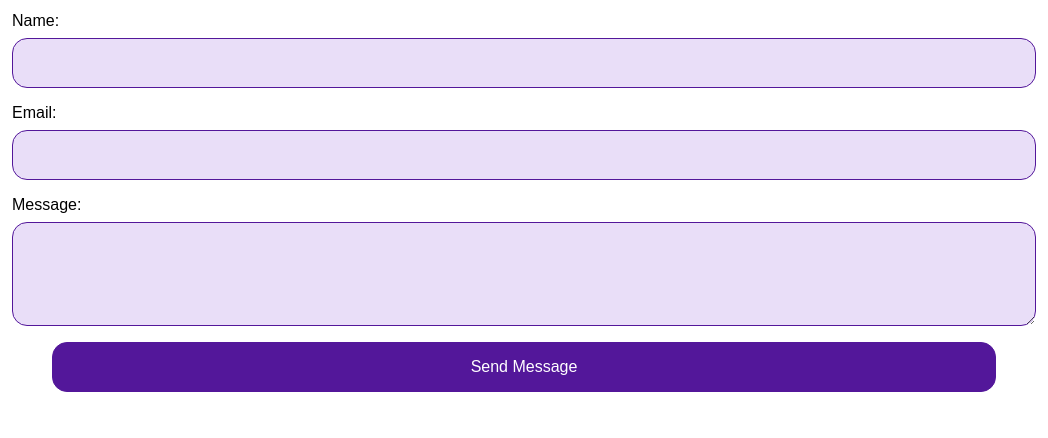
it: ContactForm › shows the server's confirmation on success
In the field labelled "Name:": (524, 63) [12, 38, 1036, 88], type "Ada"
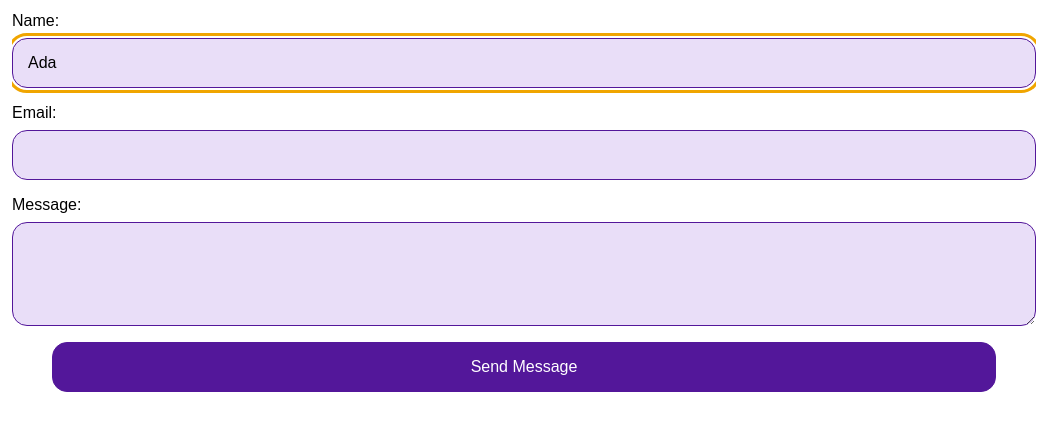
In the field labelled "Email:": (524, 155) [12, 130, 1036, 180], type "ada@example"
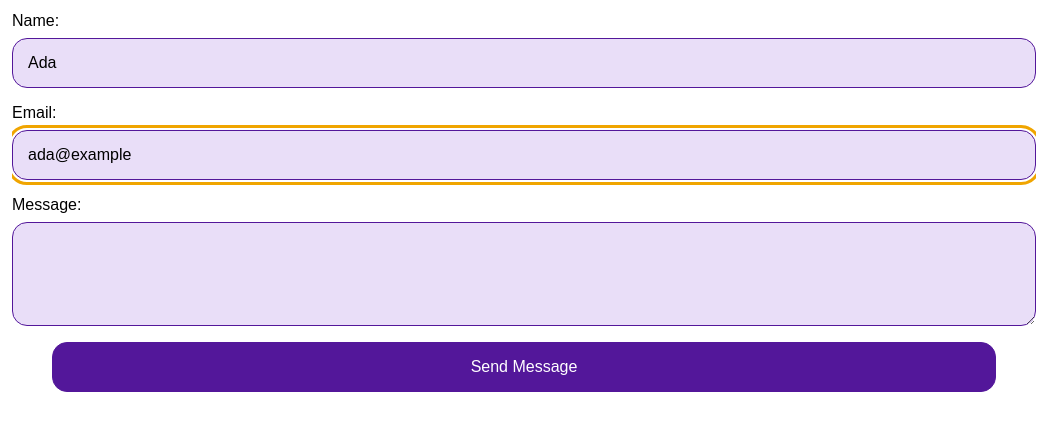
In the text box labelled "Message:": (524, 274) [12, 222, 1036, 326], type "Hello"
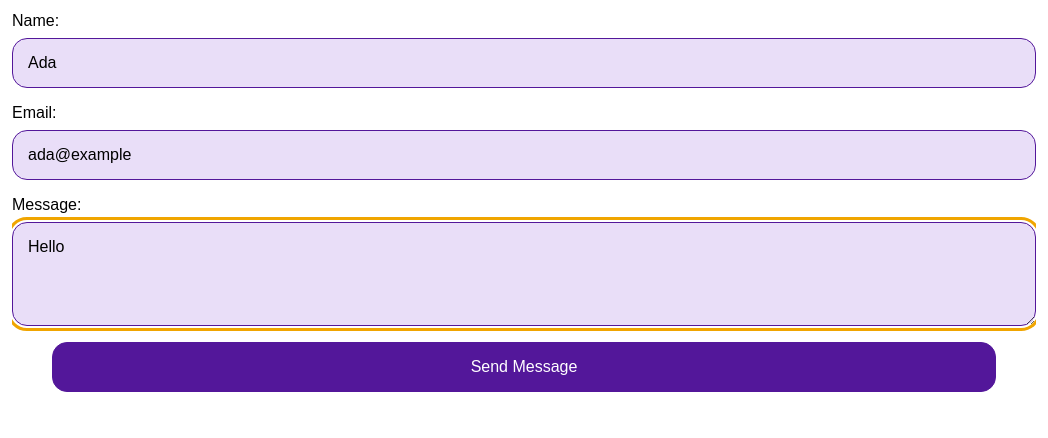
Click the button "Send Message": (524, 367) [52, 342, 996, 392]
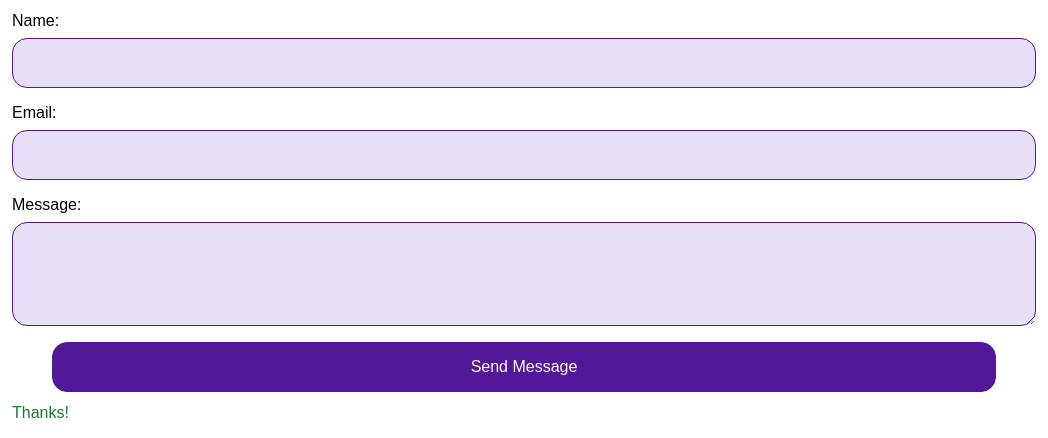
Result: the message reads "Thanks!" at [12, 404, 69, 421]
